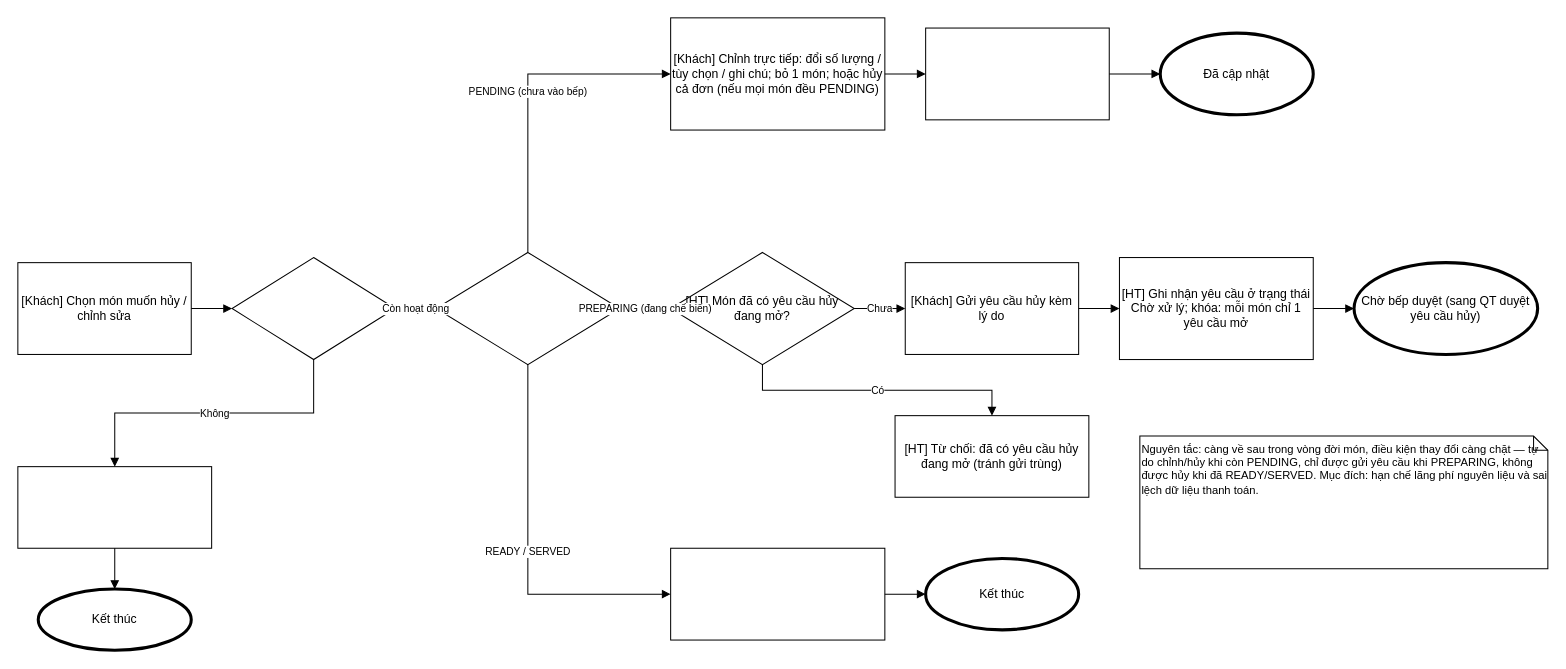
The diagram is 1566 pixels wide and 669 high, and some of its shapes have lost their labels. Here are the shapes that lost their labels. From the top down, the centre of each, then its label:
(x=1017, y=73): [HT] Tính lại đơn + cập nhật tổng tiền của phiên
(x=313, y=308): [HT] Phiên còn đang hoạt động?
(x=527, y=308): [HT] Trạng thái của món?
(x=114, y=507): [HT] Từ chối: phiên không còn hoạt động (đã chờ thanh toán / đã đóng)
(x=777, y=593): [HT] Từ chối: món đã READY / SERVED — không được hủy trên giao diện khách
